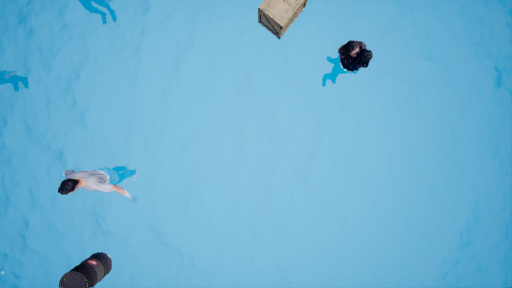person: (316, 37, 373, 96), (57, 165, 145, 201)
